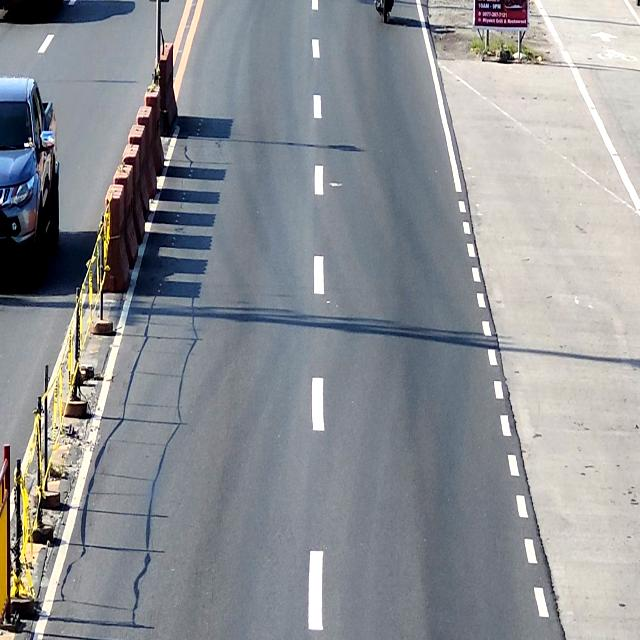Car: (0, 75, 60, 285)
